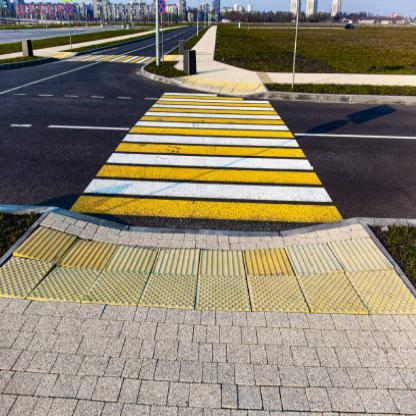podotacti: (2, 223, 415, 307)
